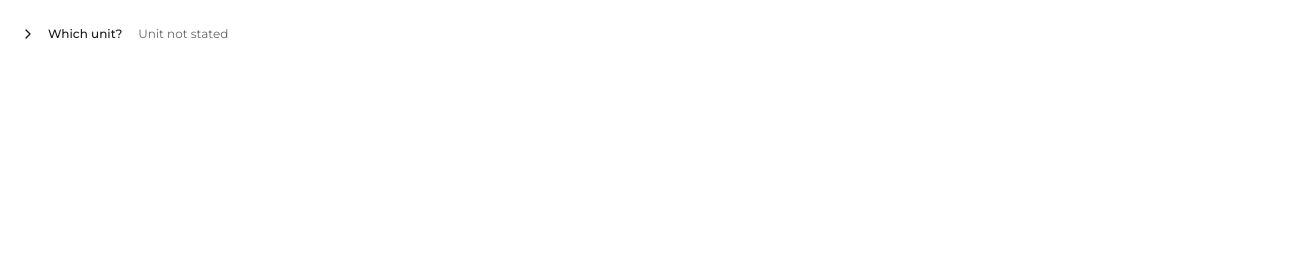
Test: Which unit? control › is collapsed with a hint, lists allocated units with Unassigned, and saves the split
The image size is (1292, 271).
Later steps or results of the test are not shown.
expect the text "Unit not stated" is shown: met, box [138, 26, 228, 42]
expect the field labelled "M1" is not shown: met
Click the button "Which unit?".
click(71, 34)  # box [12, 12, 130, 56]
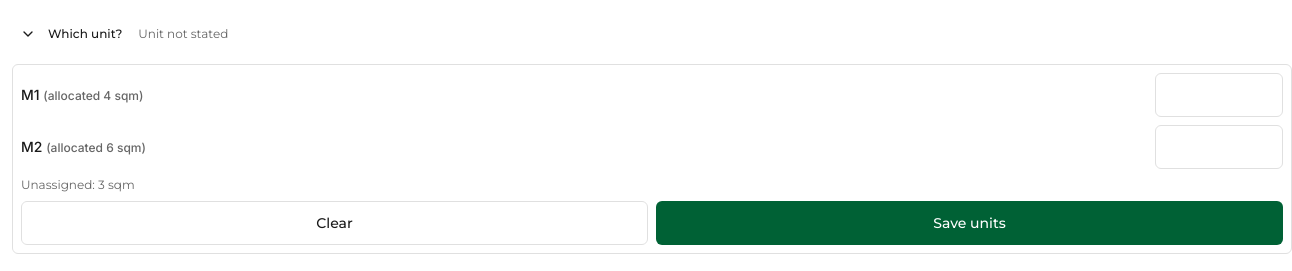
Type "2" into the number field labelled "M1 (allocated 4 sqm)".
click(1219, 95); type("2")  # box [1155, 73, 1283, 117]
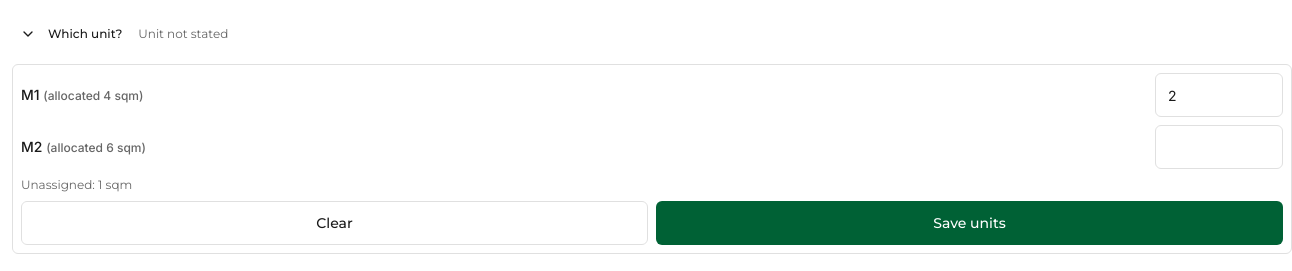
expect the text "Unassigned: 1 sqm" is shown: met, box [21, 177, 132, 192]
